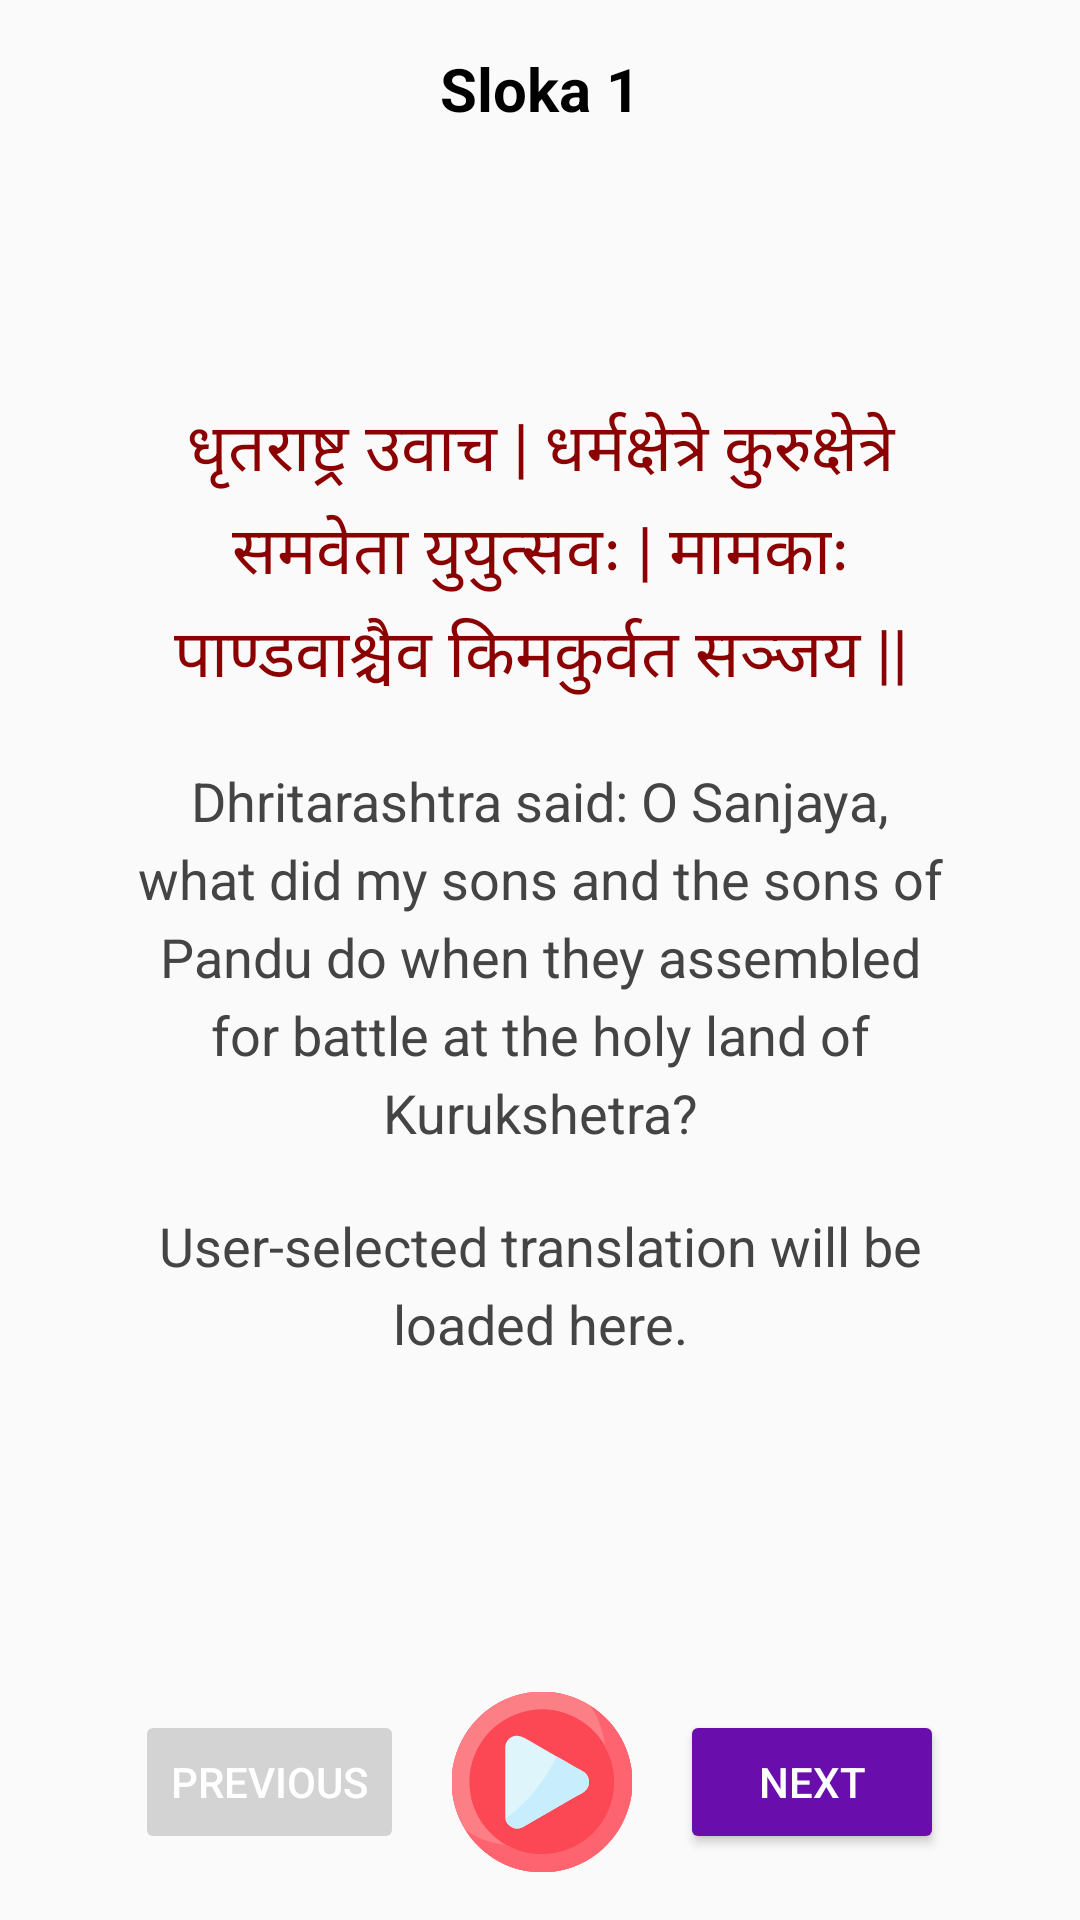

Icon bounding boxes for this 1080x1920 phone screenshot, format (x1, y1, x2, y2):
Play/Pause: (452, 1692, 632, 1872)
